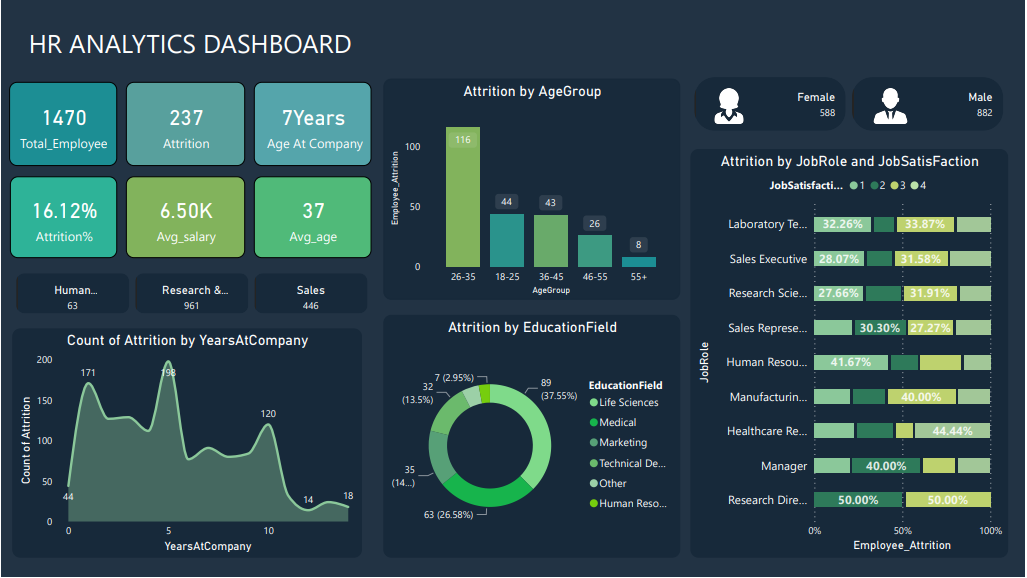

What the dashboard file says about the page in this screenshot:
{"tool":"powerbi","page":{"name":"Page 1","canvas":[1280,720],"ordinal":0},"visuals":[{"type":"card","fields":{"Values":["HR_Analytics.Years_With_Text"]},"box":[316.1,102,147.4,104.9],"z":0},{"type":"card","fields":{"Values":["HR_Analytics.Employee_Attrition"]},"box":[155.9,102,148.8,104.9],"z":1000},{"type":"card","fields":{"Values":["HR_Analytics.Attrition%"]},"box":[11.3,219.7,133.2,102],"z":2000},{"type":"card","fields":{"Values":["HR_Analytics.Avg_salary"]},"box":[155.9,219.7,148.8,102],"z":3000},{"type":"card","fields":{"Values":["HR_Analytics.Avg_age"]},"box":[316.1,219.7,147.4,102],"z":4000},{"type":"areaChart","fields":{"Y":["CountNonNull(HR_Analytics.Attrition)"],"Category":["HR_Analytics.YearsAtCompany"]},"box":[14.2,409.6,436.5,286.3],"z":5000},{"type":"card","fields":{"Values":["HR_Analytics.Employee_Count"]},"box":[9.9,102,134.6,104.9],"z":6000},{"type":"donutChart","title":"Attrition by EducationField","fields":{"Y":["HR_Analytics.Employee_Attrition"],"Category":["HR_Analytics.EducationField"]},"box":[477.6,392.6,371.3,303.3],"z":7000},{"type":"clusteredColumnChart","title":"Attrition by AgeGroup","fields":{"Category":["HR_Analytics.AgeGroup"],"Y":["HR_Analytics.Employee_Attrition"]},"box":[477.6,97.8,371.3,276.4],"z":8000},{"type":"hundredPercentStackedBarChart","title":"Attrition by JobRole and JobSatisFaction","fields":{"Y":["HR_Analytics.Employee_Attrition"],"Series":["HR_Analytics.JobSatisfaction"],"Category":["HR_Analytics.JobRole"]},"box":[861.7,185.7,396.9,510.2],"z":9000},{"type":"advancedSlicerVisual","fields":{"Values":["HR_Analytics.Gender"]},"box":[861.7,90.7,396.9,78],"z":10000},{"type":"image","box":[1080,104.9,63.8,53.9],"z":11000},{"type":"image","box":[874.5,104.9,70.9,53.9],"z":12000},{"type":"advancedSlicerVisual","fields":{"Values":["HR_Analytics.Department"]},"box":[14.2,335.9,449.3,60.9],"z":13000},{"type":"textbox","title":"HR ANALYTICS DASHBOARD","box":[9.9,25.5,453.5,65.2],"z":14000}]}

Visuals, with their boxes in screenshot pixels (x1, y1, x2, y2), scaled from the page's 1280x720 canvas onto the 1027x578 screenshot:
card - HR_Analytics.Years_With_Text: <box>254,82,372,166</box>
card - HR_Analytics.Employee_Attrition: <box>125,82,244,166</box>
card - HR_Analytics.Attrition%: <box>9,176,116,258</box>
card - HR_Analytics.Avg_salary: <box>125,176,244,258</box>
card - HR_Analytics.Avg_age: <box>254,176,372,258</box>
areaChart - CountNonNull(HR_Analytics.Attrition) x HR_Analytics.YearsAtCompany: <box>11,329,362,559</box>
card - HR_Analytics.Employee_Count: <box>8,82,116,166</box>
"Attrition by EducationField" donutChart: <box>383,315,681,559</box>
"Attrition by AgeGroup" clusteredColumnChart: <box>383,79,681,300</box>
"Attrition by JobRole and JobSatisFaction" hundredPercentStackedBarChart: <box>691,149,1010,559</box>
advancedSlicerVisual - HR_Analytics.Gender: <box>691,73,1010,135</box>
image: <box>867,84,918,127</box>
image: <box>702,84,759,127</box>
advancedSlicerVisual - HR_Analytics.Department: <box>11,270,372,319</box>
"HR ANALYTICS DASHBOARD" textbox: <box>8,20,372,73</box>
